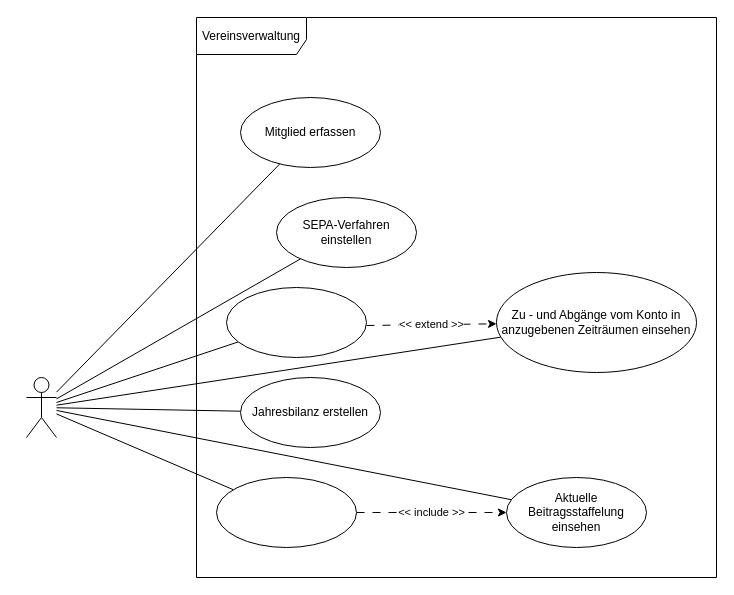
Image size: 734x595. Some labels were removed from this diagram. The shapes that lost their labels are listed below. From the top down, each one's centre as x and y in pixels, then its label:
(296,322): Kontostand des Vereins einsehen
(41,407): Benutzer
(286,512): Beitragsstaffelung konfigurieren
